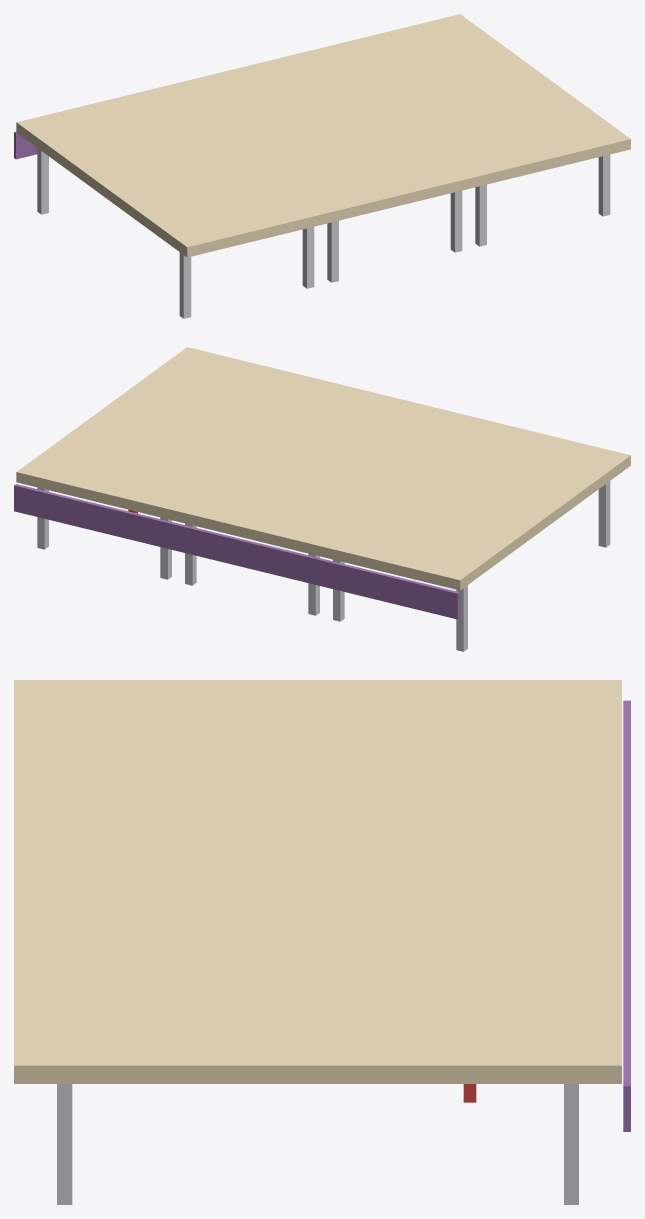
Rendered from folding_stage.glb.
The picture shows the model from 3 angles, top to bottom: view 1: azimuth 30°, elevation 25°; view 2: azimuth 150°, elevation 25°; view 3: azimuth 270°, elevation 25°; orthographic projection. The views are drawn at different scales.
Parts seen in each view (by area): view 1: folding_stage; view 2: folding_stage; view 3: folding_stage.
Part boxes in pixels (x1=…): folding_stage: x1=14, y1=14, x2=630, y2=318; folding_stage: x1=14, y1=347, x2=630, y2=651; folding_stage: x1=14, y1=680, x2=630, y2=1204.
Size of the model in its own units: 3.6 by 0.64 by 2.44.
